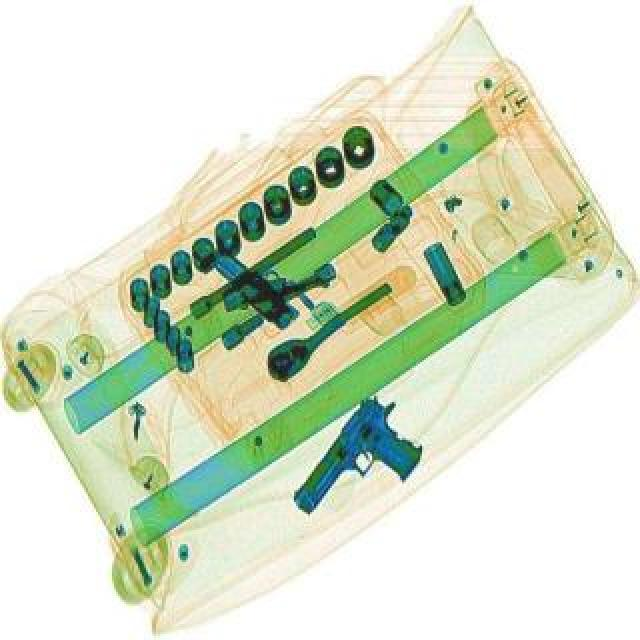gun: (292, 392, 444, 546), (210, 230, 338, 318)
